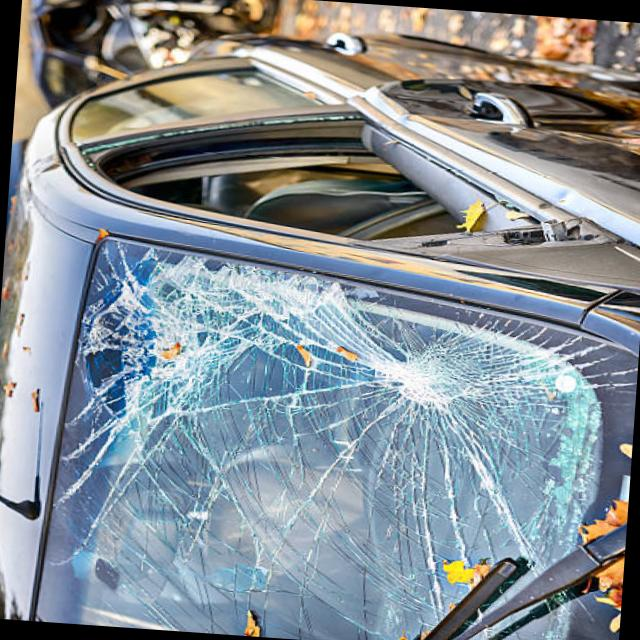Crack: (40, 429, 608, 640)
Dent: (391, 81, 611, 129)
Shatter: (63, 239, 636, 483), (101, 125, 567, 244)
